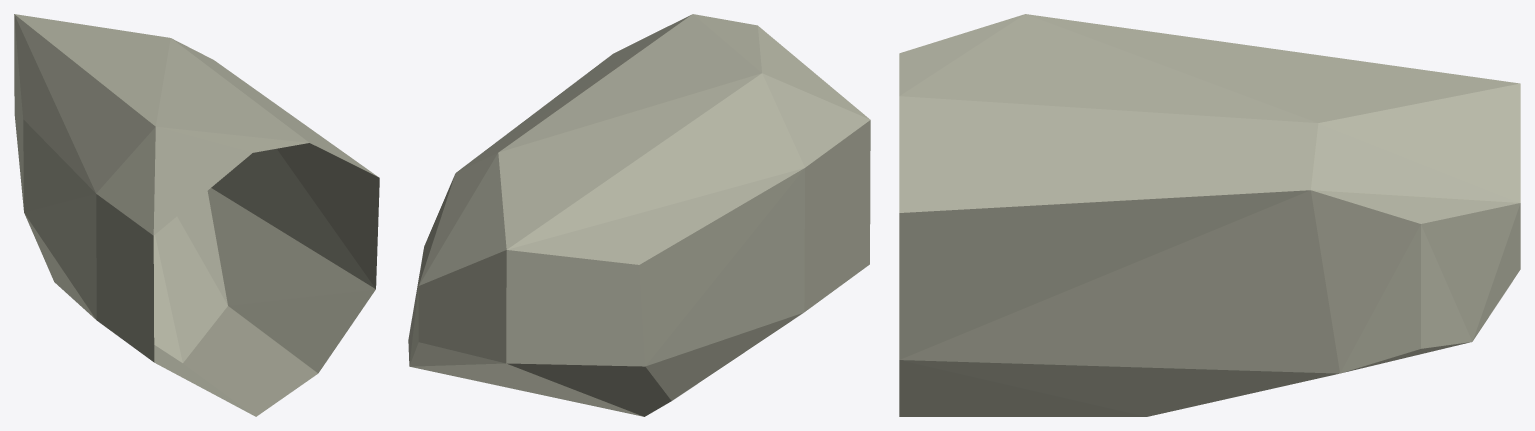
Rendered from Rock 03.FBX.
The picture shows the model from 3 angles, left to right: view 1: azimuth 30°, elevation 25°; view 2: azimuth 150°, elevation 25°; view 3: azimuth 270°, elevation 25°; orthographic projection. The views are drawn at different scales.
Parts seen in each view (by area): view 1: Rock 03; view 2: Rock 03; view 3: Rock 03.
Part boxes in pixels (x1,y1,x2,y2): Rock 03: (14,14,379,416); Rock 03: (408,14,870,416); Rock 03: (899,14,1520,416).
Bounding box in the file's own units: 201 × 354 × 229.
